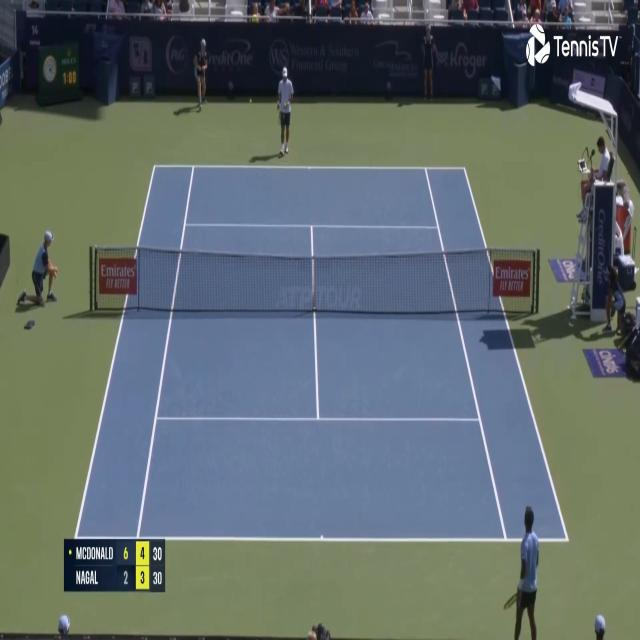tennis-player: (503, 502, 543, 640), (274, 64, 294, 158)
